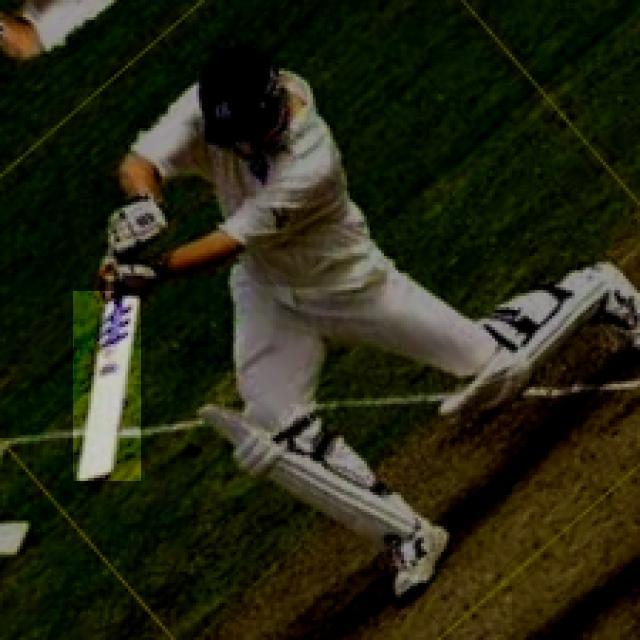bat: (70, 291, 140, 485)
toe: (65, 468, 120, 484)
